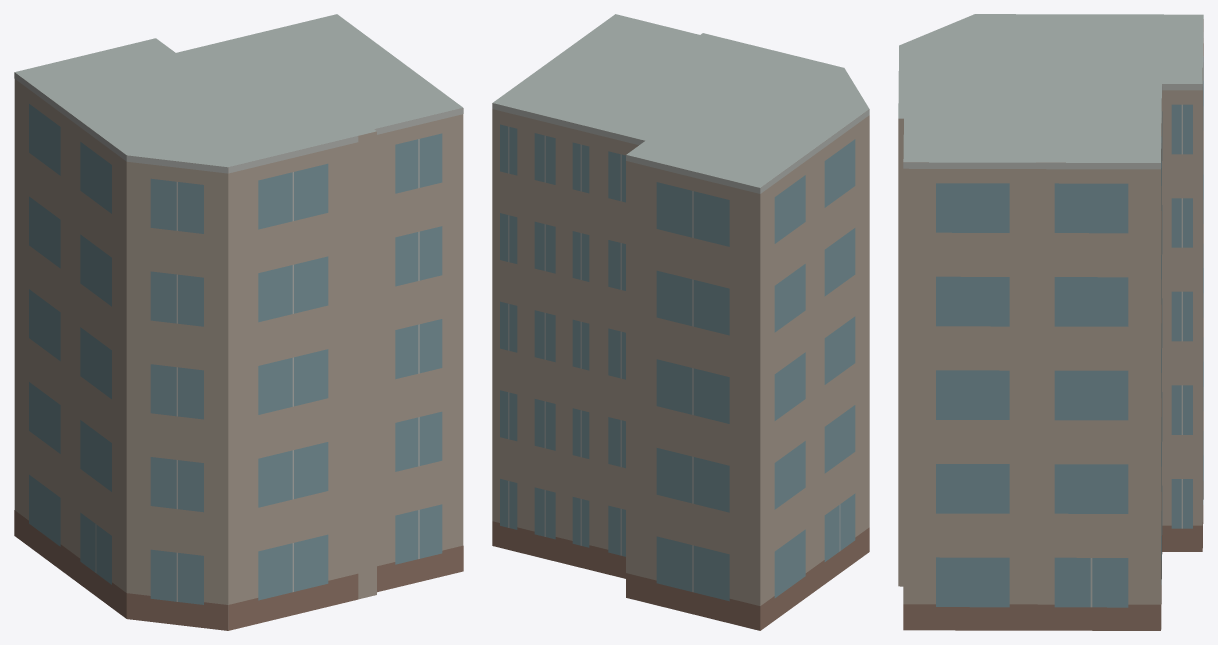
File: survey-upis-32872223.glb
3 renders of one model, left to right at view 1: azimuth 30°, elevation 25°; view 2: azimuth 150°, elevation 25°; view 3: azimuth 270°, elevation 25°, orthographic. The views are drawn at different scales.
Parts seen in each view (by area): view 1: survey-upis-32872223.tmp; view 2: survey-upis-32872223.tmp; view 3: survey-upis-32872223.tmp.
Boxes of the visible parts, x1=… form: survey-upis-32872223.tmp: x1=14, y1=14, x2=463, y2=630; survey-upis-32872223.tmp: x1=492, y1=14, x2=869, y2=630; survey-upis-32872223.tmp: x1=898, y1=14, x2=1203, y2=630.
Size of the model in its own units: 12.17 by 17.8 by 10.53.
